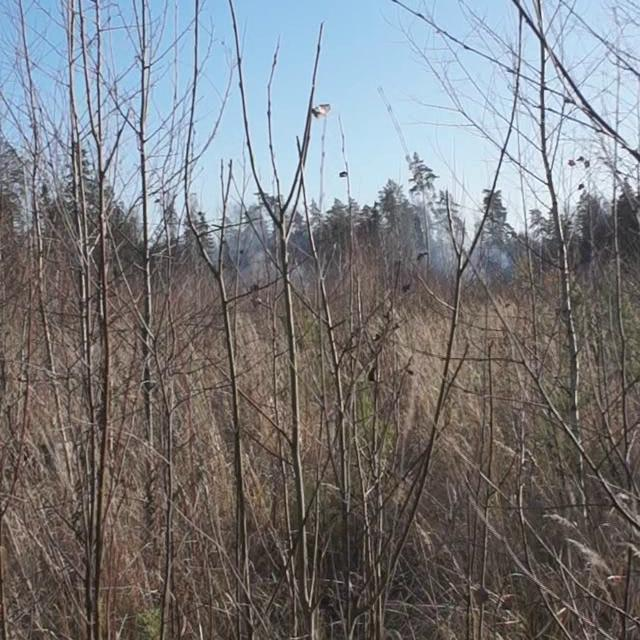Smoke: (399, 212, 519, 279), (189, 219, 268, 281)
